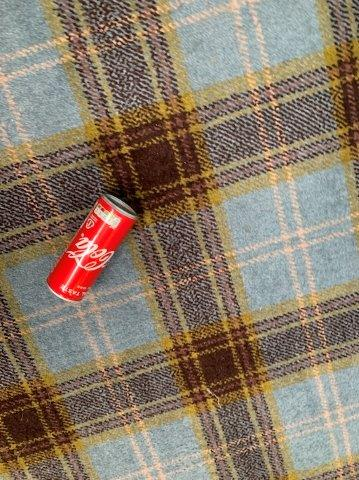kaleng: (48, 194, 136, 302)
